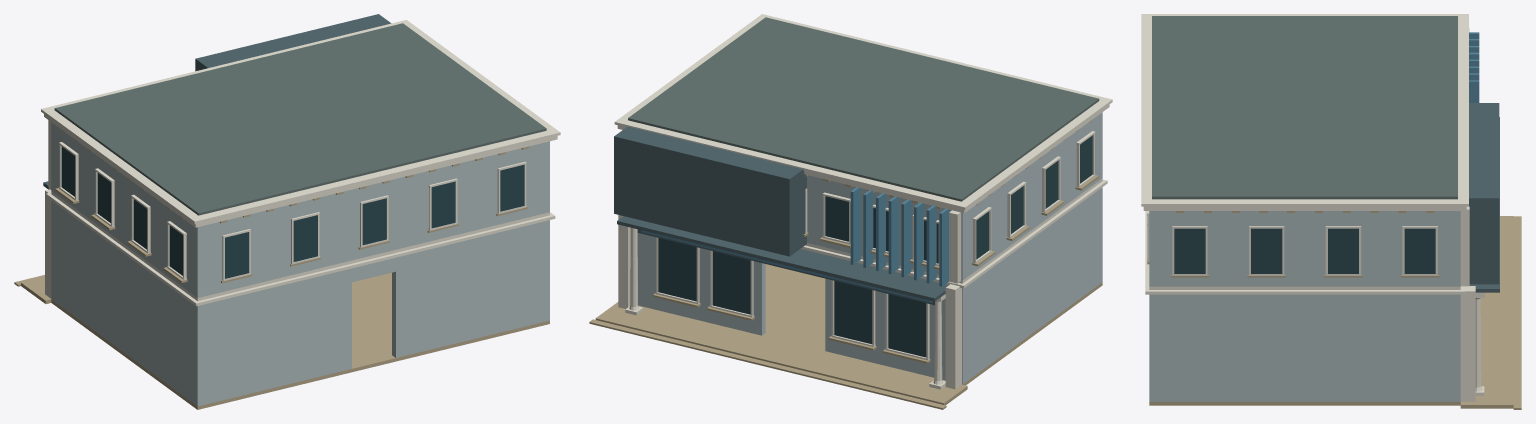
Rendered from KOL_T25_ELECTRONICS.fbx.
The picture shows the model from 3 angles, left to right: view 1: azimuth 30°, elevation 25°; view 2: azimuth 150°, elevation 25°; view 3: azimuth 270°, elevation 25°; orthographic projection. The views are drawn at different scales.
Parts seen in each view (by area): view 1: KOL_T25_ELECTRONICS__Body, KOL_T25_ELECTRONICS__Roof, KOL_T25_ELECTRONICS__Trim, KOL_T25_ELECTRONICS__Glass, KOL_T25_ELECTRONICS__Stone, KOL_T25_ELECTRONICS__Metal; view 2: KOL_T25_ELECTRONICS__Roof, KOL_T25_ELECTRONICS__Body, KOL_T25_ELECTRONICS__Metal, KOL_T25_ELECTRONICS__Trim, KOL_T25_ELECTRONICS__Stone, KOL_T25_ELECTRONICS__Glass, KOL_T25_ELECTRONICS__Blue; view 3: KOL_T25_ELECTRONICS__Roof, KOL_T25_ELECTRONICS__Body, KOL_T25_ELECTRONICS__Trim, KOL_T25_ELECTRONICS__Stone, KOL_T25_ELECTRONICS__Metal, KOL_T25_ELECTRONICS__Glass, KOL_T25_ELECTRONICS__Blue.
Part boxes in pixels (x1,y1,x2,y2): KOL_T25_ELECTRONICS__Body: [51, 122, 549, 406]; KOL_T25_ELECTRONICS__Roof: [54, 23, 546, 215]; KOL_T25_ELECTRONICS__Trim: [41, 20, 560, 306]; KOL_T25_ELECTRONICS__Glass: [61, 146, 524, 278]; KOL_T25_ELECTRONICS__Stone: [14, 130, 549, 409]; KOL_T25_ELECTRONICS__Metal: [43, 14, 391, 189]; KOL_T25_ELECTRONICS__Roof: [628, 17, 1099, 201]; KOL_T25_ELECTRONICS__Body: [637, 112, 1102, 384]; KOL_T25_ELECTRONICS__Metal: [614, 126, 948, 305]; KOL_T25_ELECTRONICS__Trim: [614, 14, 1112, 389]; KOL_T25_ELECTRONICS__Stone: [589, 119, 1102, 409]; KOL_T25_ELECTRONICS__Glass: [658, 135, 1092, 357]; KOL_T25_ELECTRONICS__Blue: [641, 187, 949, 302]; KOL_T25_ELECTRONICS__Roof: [1152, 16, 1457, 199]; KOL_T25_ELECTRONICS__Body: [1149, 211, 1460, 401]; KOL_T25_ELECTRONICS__Trim: [1141, 14, 1484, 401]; KOL_T25_ELECTRONICS__Stone: [1147, 211, 1521, 409]; KOL_T25_ELECTRONICS__Metal: [1469, 103, 1499, 292]; KOL_T25_ELECTRONICS__Glass: [1174, 228, 1435, 273]; KOL_T25_ELECTRONICS__Blue: [1469, 32, 1479, 102].
Size of the model in its own units: 67 by 33.85 by 56.2.
